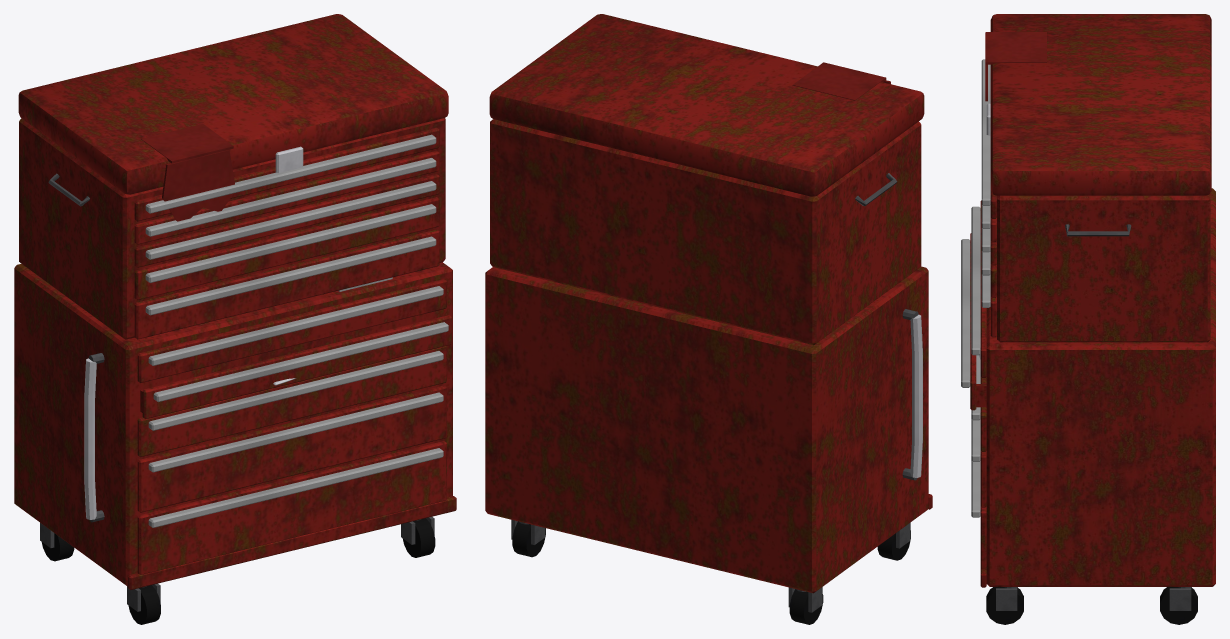
Rendered from tool-chest.glb.
3 views of the same model, side by side, from view 1: azimuth 30°, elevation 25°; view 2: azimuth 150°, elevation 25°; view 3: azimuth 270°, elevation 25° (orthographic).
Parts seen in each view (by area): view 1: tool_chest; view 2: tool_chest; view 3: tool_chest.
Boxes of the visible parts, x1=… form: tool_chest: x1=14, y1=14, x2=456, y2=624; tool_chest: x1=485, y1=14, x2=932, y2=624; tool_chest: x1=961, y1=14, x2=1215, y2=624.
Size of the model in its own units: 0.7959 by 1 by 0.498.
2 materials, 2 textured.
